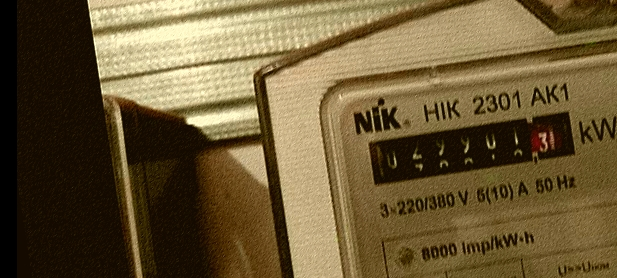0: (481, 125, 499, 152), (382, 147, 400, 171)
1: (507, 122, 523, 147)
2: (407, 138, 425, 162)
3: (534, 129, 552, 154)
9: (457, 132, 472, 156), (432, 134, 447, 157)
screen: (358, 102, 586, 197)
